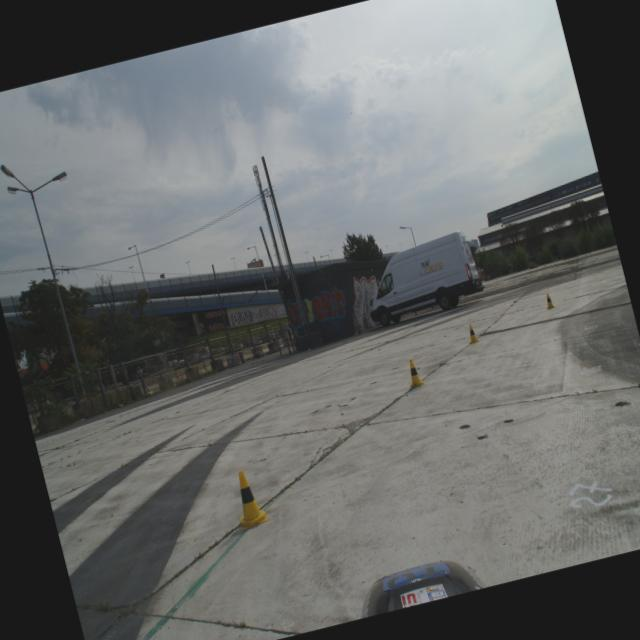yellow_cone: (228, 466, 268, 530), (403, 358, 425, 388), (464, 322, 480, 343), (542, 292, 556, 309)
